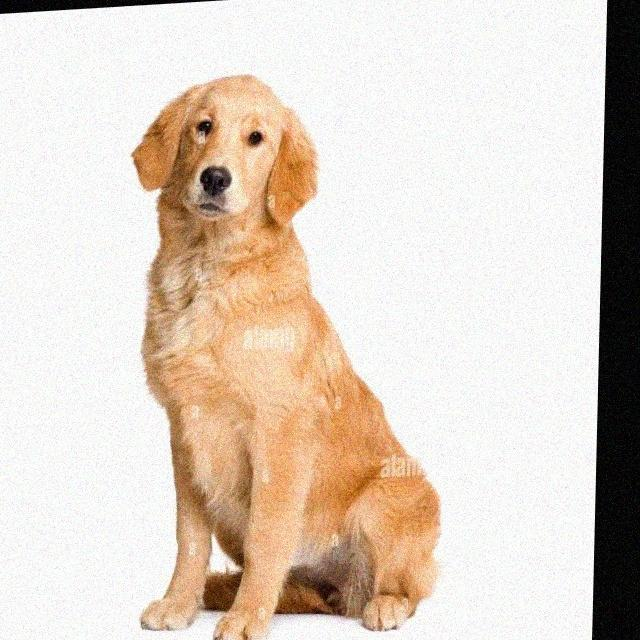dog: (123, 33, 467, 640)
